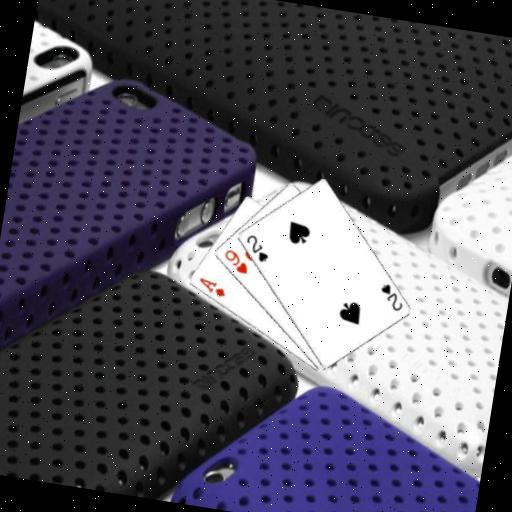2S: (240, 231, 273, 265), (374, 279, 407, 313)
9H: (218, 245, 251, 276)
AD: (193, 274, 228, 300)
